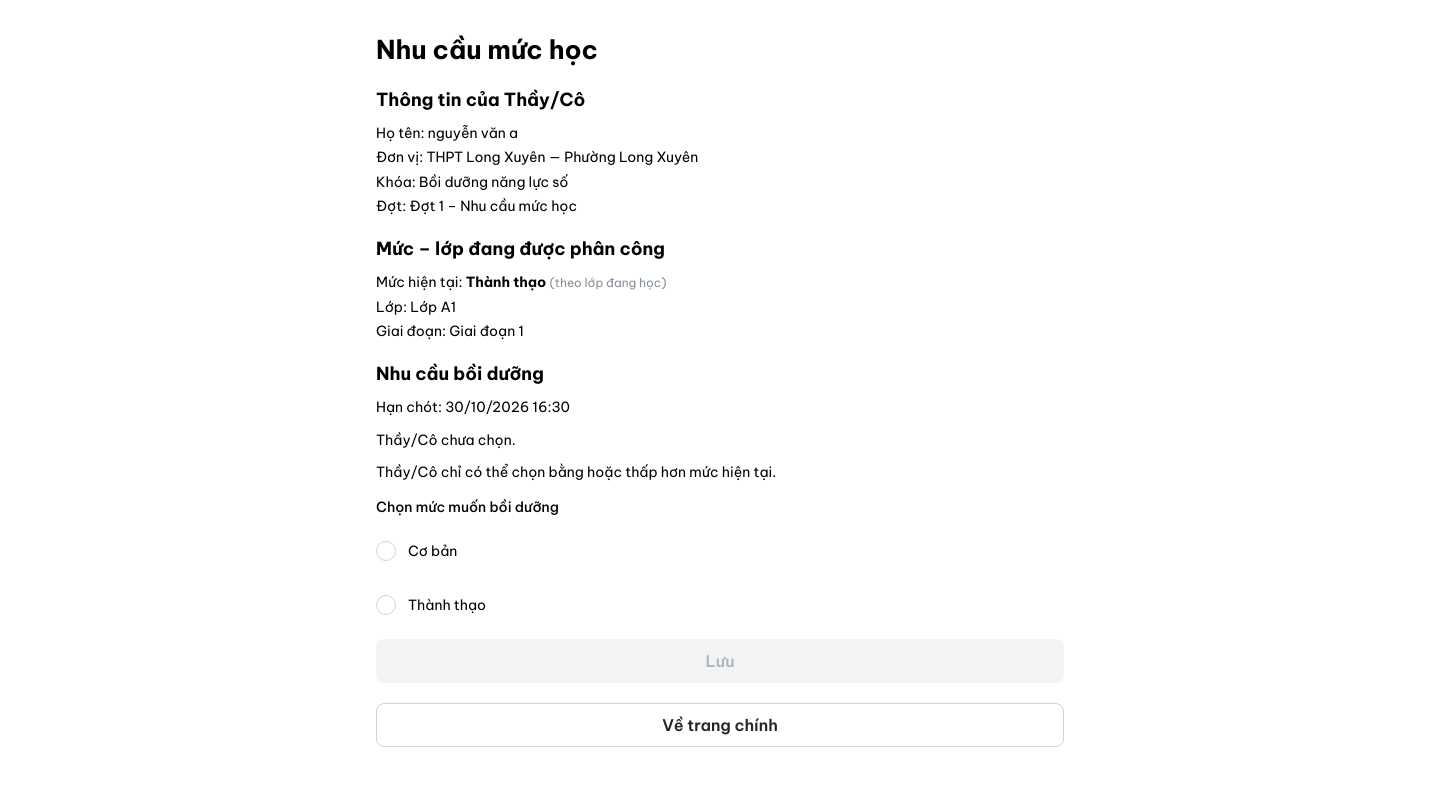
Test: M9 — chọn nhu cầu mức học (ADR 0013) › API trả 400 field muc: hiện lỗi trong modal
What coordinates should you click on to do the following:
click the radio button labelled "Thành thạo"
I would click on:
 (386, 605)
Its box is [376, 595, 396, 615].
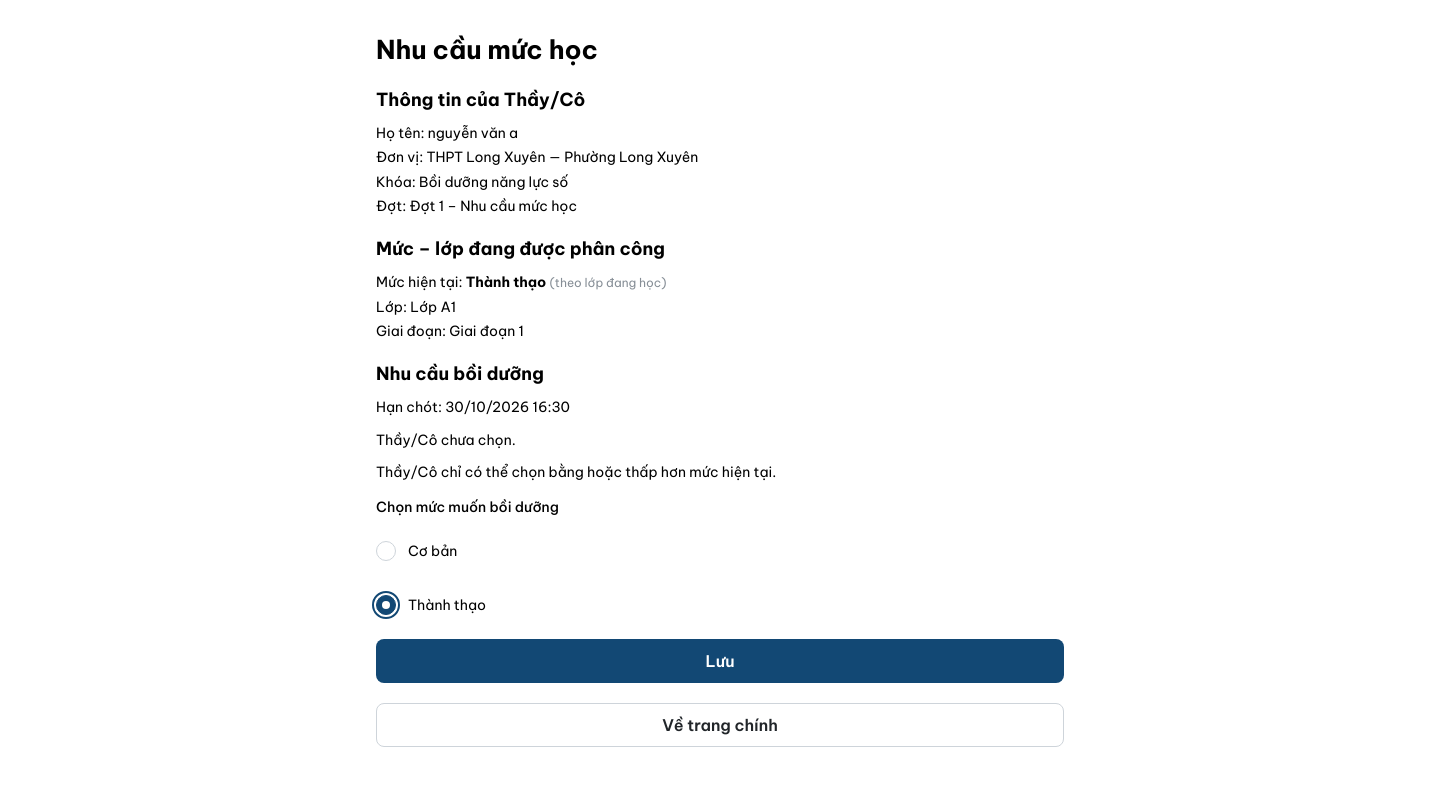
What coordinates should you click on to do the following:
click the button "Lưu"
I would click on:
 (720, 661)
Its box is [376, 639, 1064, 683].
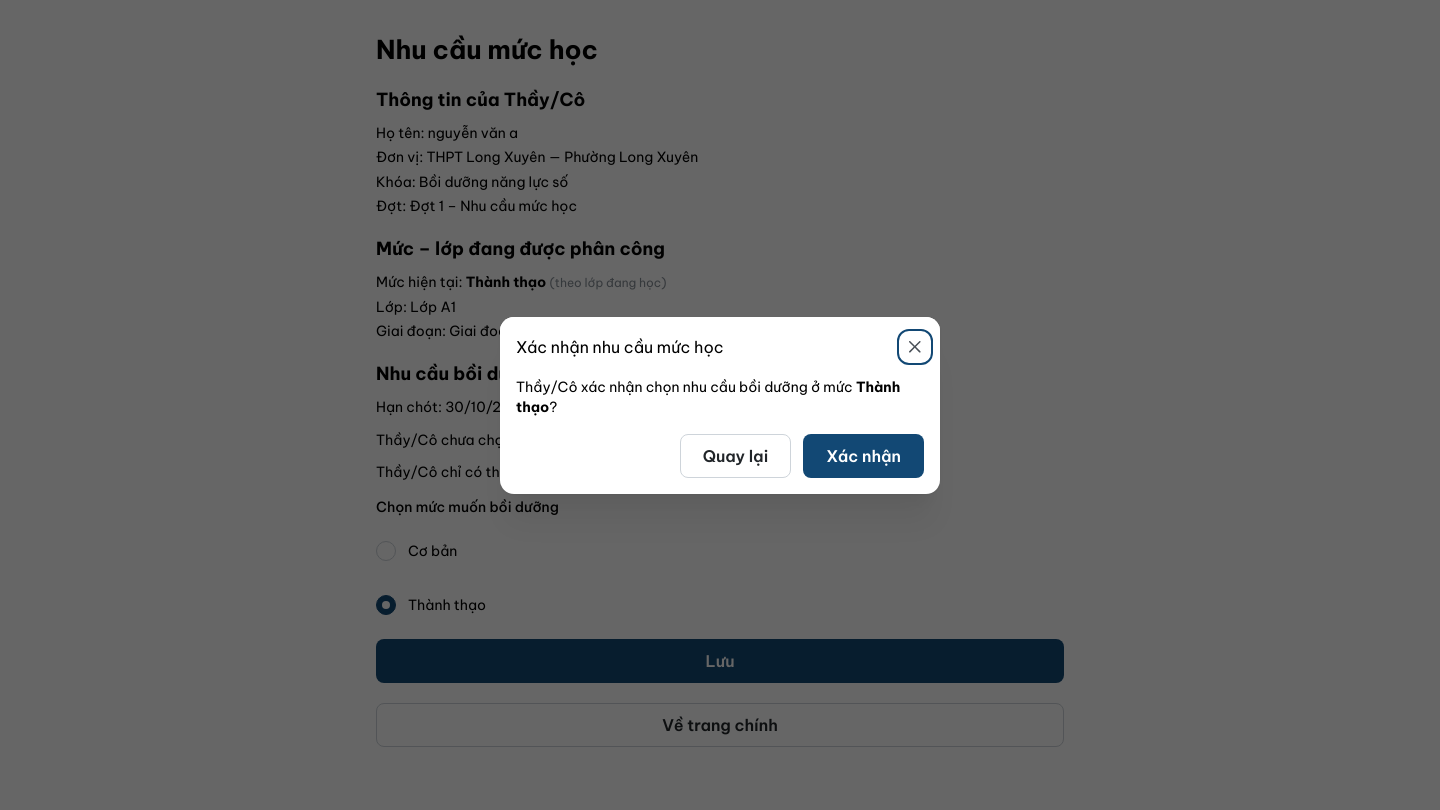
What coordinates should you click on to do the following:
click the button "Xác nhận"
I would click on:
 (864, 455)
Its box is [803, 433, 924, 477].
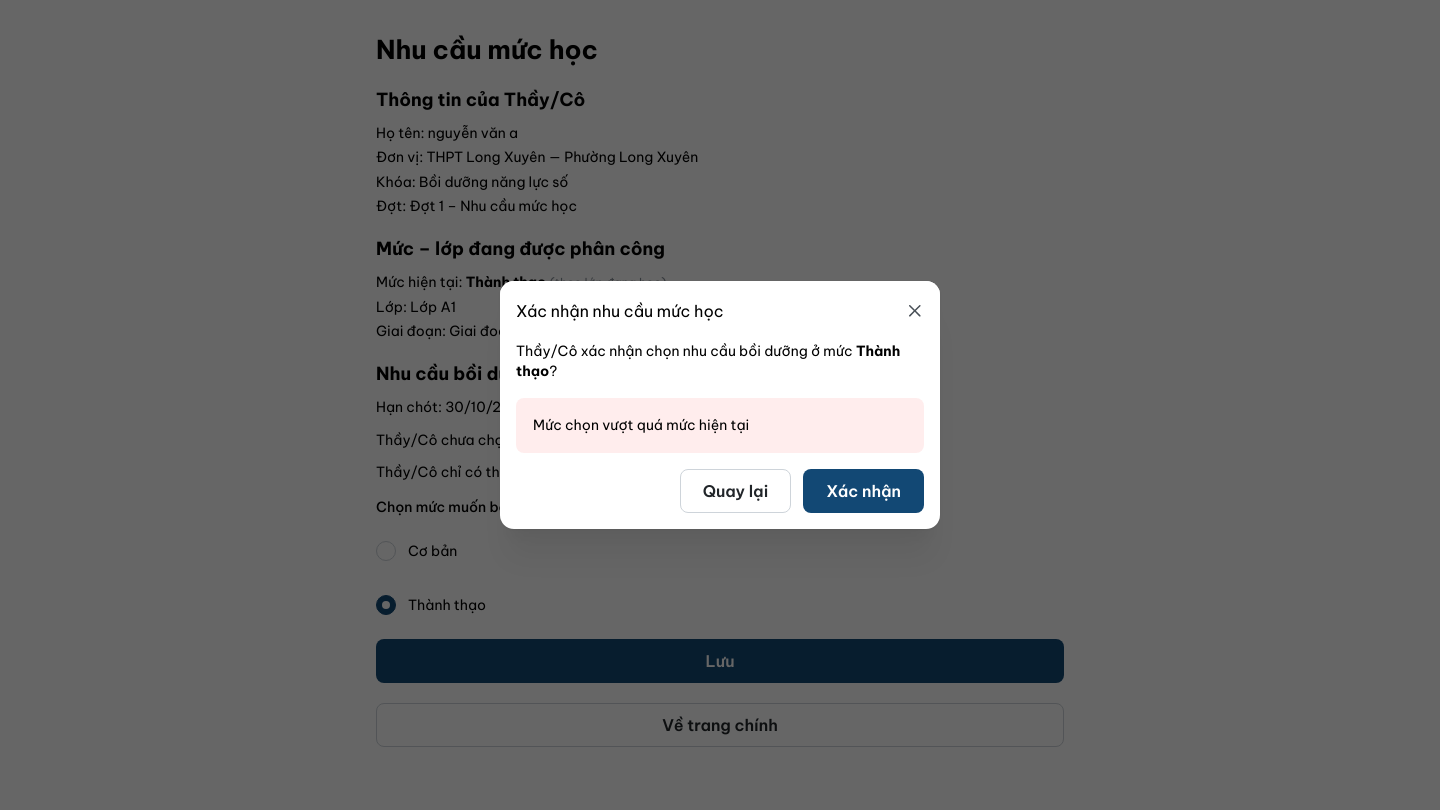
Expected: the text "Mức chọn vượt quá mức hiện tại" is shown, [533, 416, 749, 434]
